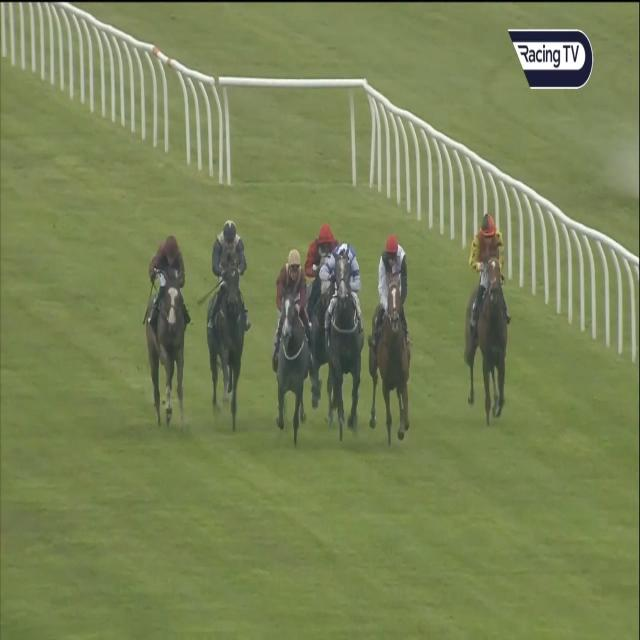horses-racing: (459, 202, 520, 426), (367, 228, 416, 436), (205, 212, 249, 424), (145, 228, 193, 420), (318, 239, 363, 438), (274, 249, 308, 437), (303, 223, 343, 306)
